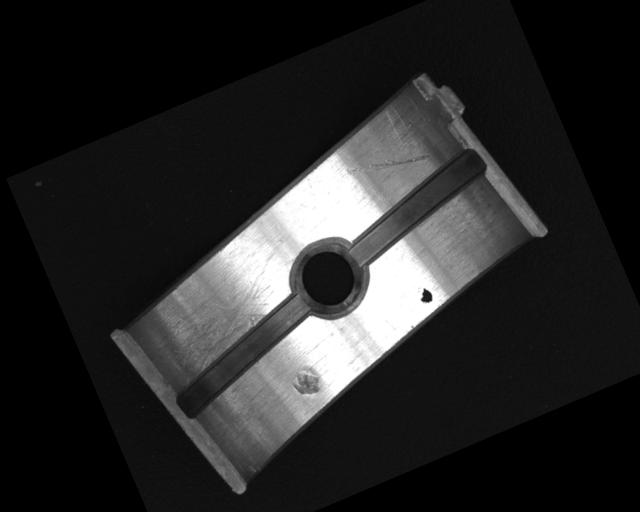blot: (414, 283, 435, 306)
bruise: (286, 360, 327, 401)
gap: (155, 290, 331, 419), (330, 144, 503, 271)
hole: (282, 232, 375, 325)
nick: (345, 136, 432, 191)
scratch: (134, 251, 307, 389)
